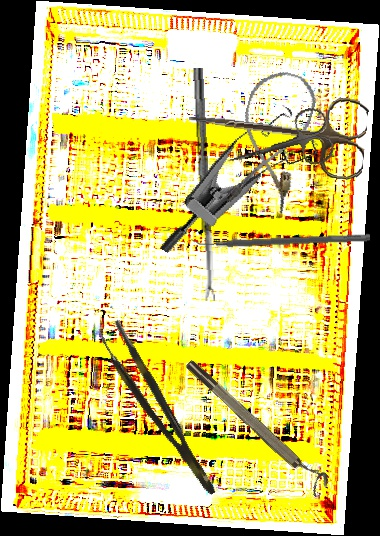Cannula: (220, 64, 322, 217)
Fixation Ring: (183, 351, 333, 498)
Iris Scissors: (184, 81, 370, 182), (219, 104, 338, 188)
Spatula Surgical: (190, 226, 371, 251)
Speculum: (157, 85, 330, 293)
Surgical Spoon: (191, 67, 216, 302)
Tissue Forceps: (94, 318, 219, 505)
